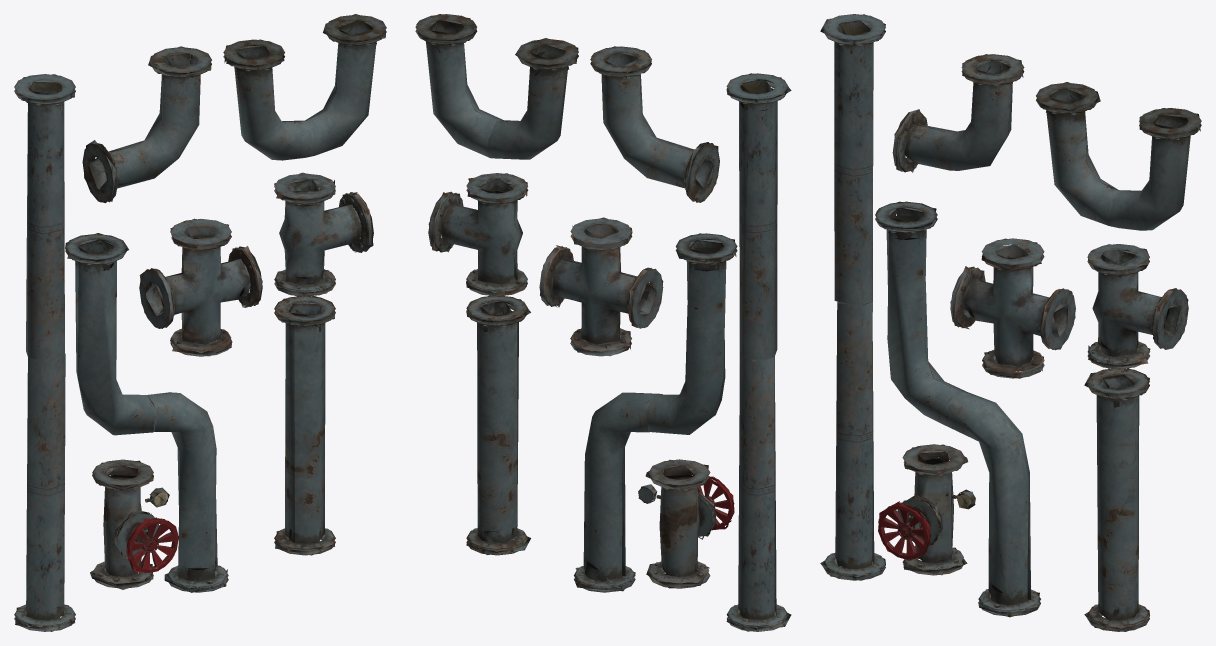
The model's file is modular_industrial_pipes_01.gltf.
3 views of the same model, side by side, from view 1: azimuth 30°, elevation 25°; view 2: azimuth 150°, elevation 25°; view 3: azimuth 330°, elevation 25° (orthographic).
Visible parts, largest first — view 1: modular_industrial_pipes_01; view 2: modular_industrial_pipes_01; view 3: modular_industrial_pipes_01.
Part boxes in pixels (box(x1,y1,x2,y2)): modular_industrial_pipes_01: box(14, 14, 386, 631); modular_industrial_pipes_01: box(415, 14, 791, 631); modular_industrial_pipes_01: box(820, 14, 1201, 631).
Size of the model in its own units: 1.42 by 1.95 by 0.3078.
1 material, 1 textured.
